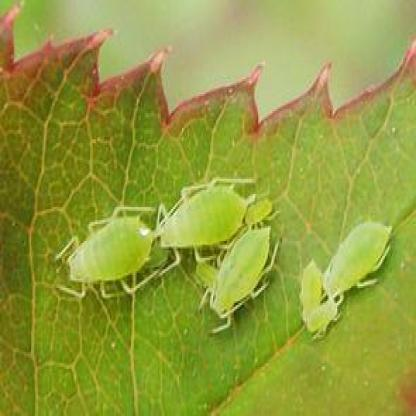aphid: (59, 202, 157, 303), (204, 219, 275, 346), (157, 170, 251, 257), (324, 218, 398, 298), (241, 186, 281, 239), (296, 258, 324, 327), (304, 292, 345, 338)
